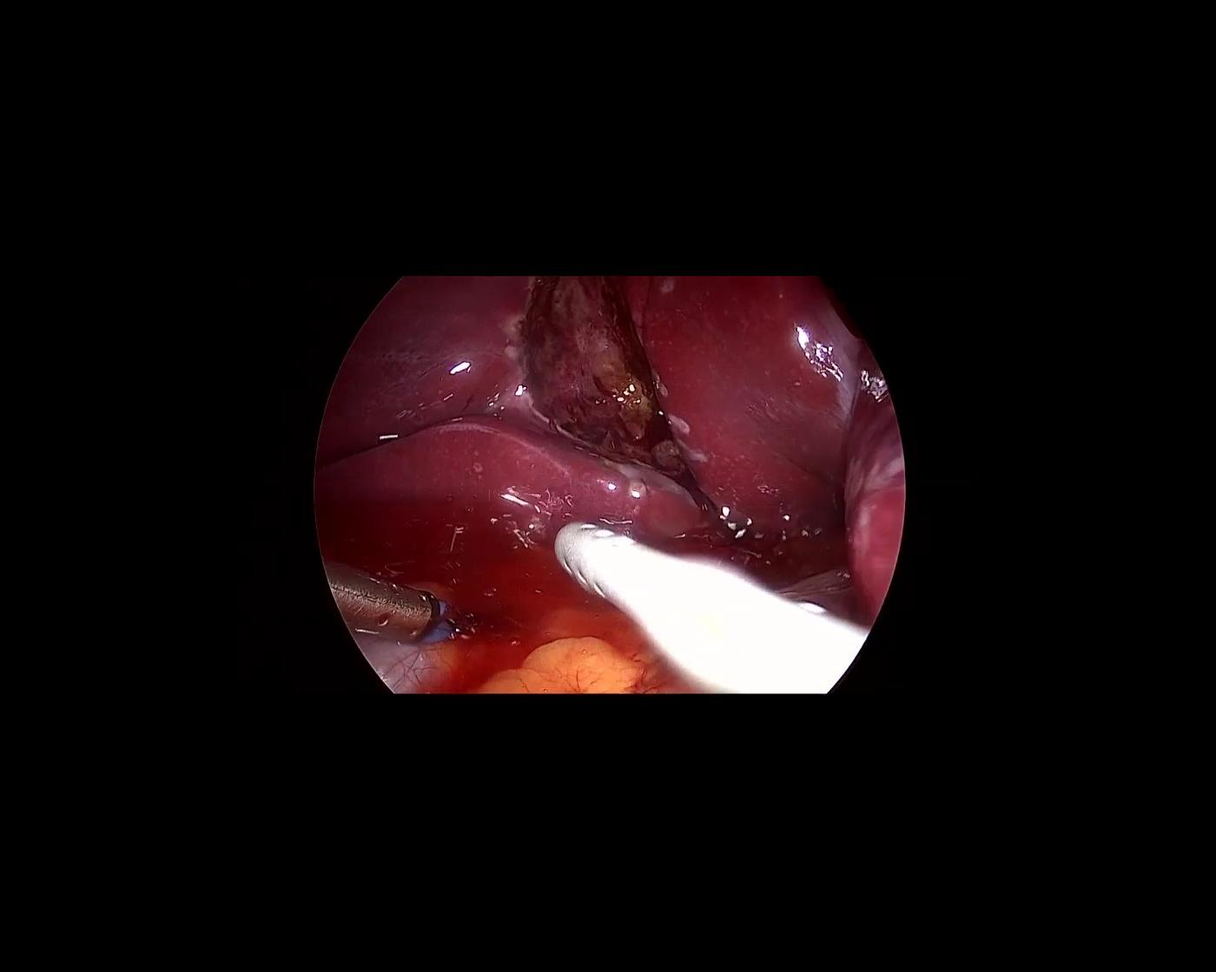Allis: (305, 557, 532, 684)
Liver: (323, 275, 699, 542), (619, 258, 874, 542)
Suction: (525, 512, 871, 737)
